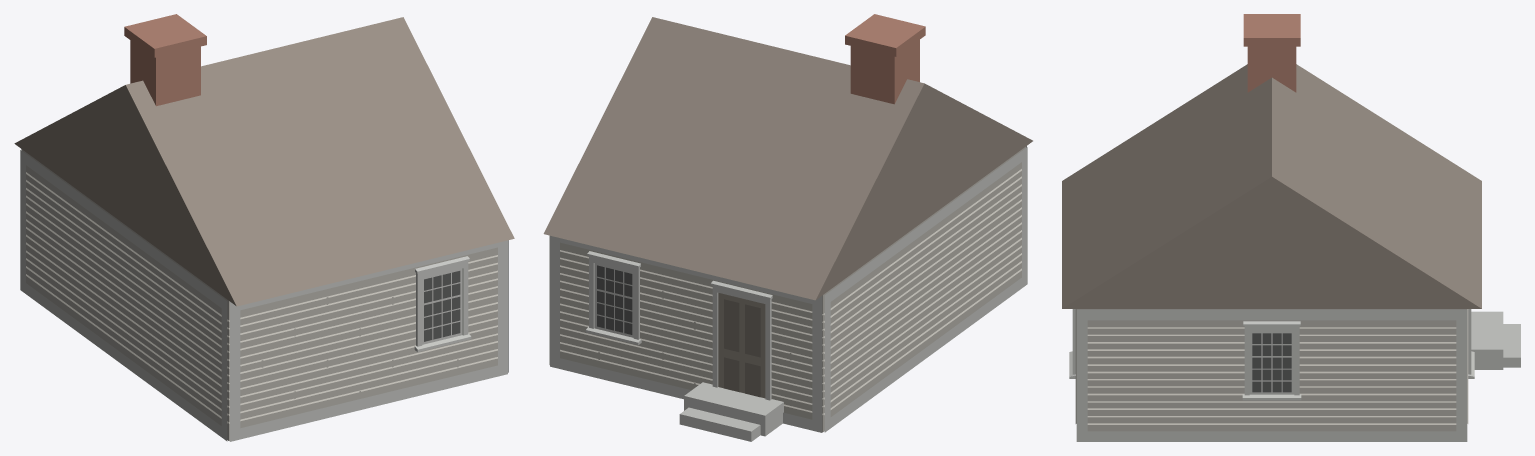
Rendered from recon_1835_blk_randolph_dearborn_d3_15__inferred_1835.glb.
3 renders of one model, left to right at view 1: azimuth 30°, elevation 25°; view 2: azimuth 150°, elevation 25°; view 3: azimuth 270°, elevation 25°, orthographic. The views are drawn at different scales.
Visible parts, largest first — view 1: recon_1835_blk_randolph_dearborn_d3_15__inferred_1835; view 2: recon_1835_blk_randolph_dearborn_d3_15__inferred_1835; view 3: recon_1835_blk_randolph_dearborn_d3_15__inferred_1835.
Boxes of the visible parts, box(x1,y1,x2,y2) form: recon_1835_blk_randolph_dearborn_d3_15__inferred_1835: box(14, 14, 514, 441); recon_1835_blk_randolph_dearborn_d3_15__inferred_1835: box(543, 14, 1032, 441); recon_1835_blk_randolph_dearborn_d3_15__inferred_1835: box(1062, 14, 1520, 441).
Bounding box in the file's own units: 5.36 × 5.8 × 7.89.
